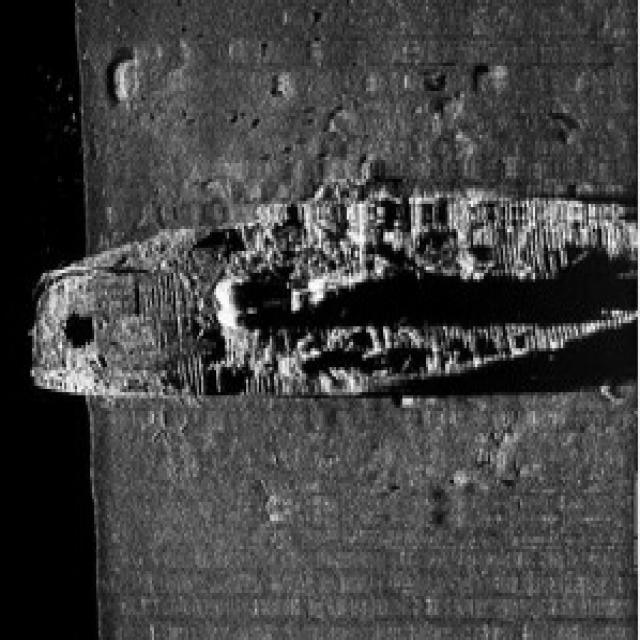ship: (30, 191, 634, 411)
